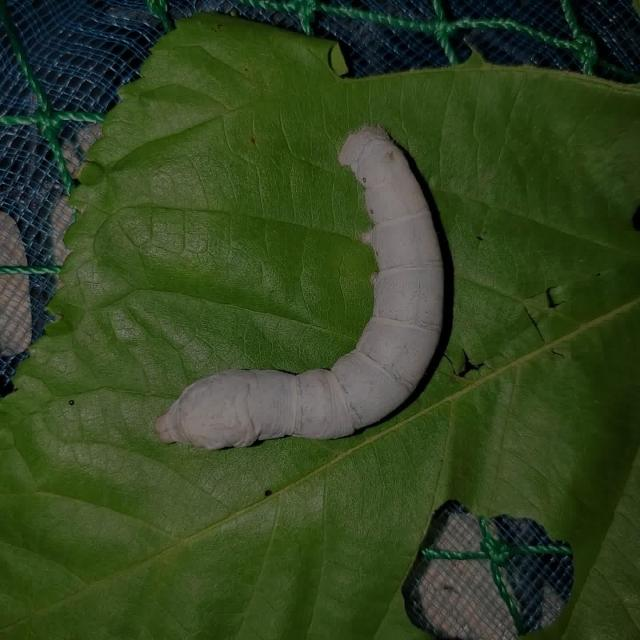Healthy: (148, 108, 458, 458)
